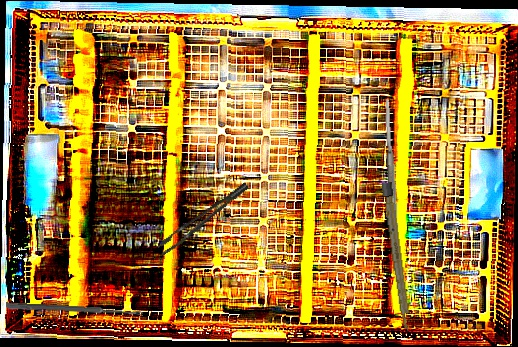Scalpel Handle: (381, 182, 413, 332)
Spatula Surgical: (382, 97, 402, 272)
Surgical Spoon: (5, 302, 144, 317)
Tissue Forceps: (151, 182, 257, 256)
